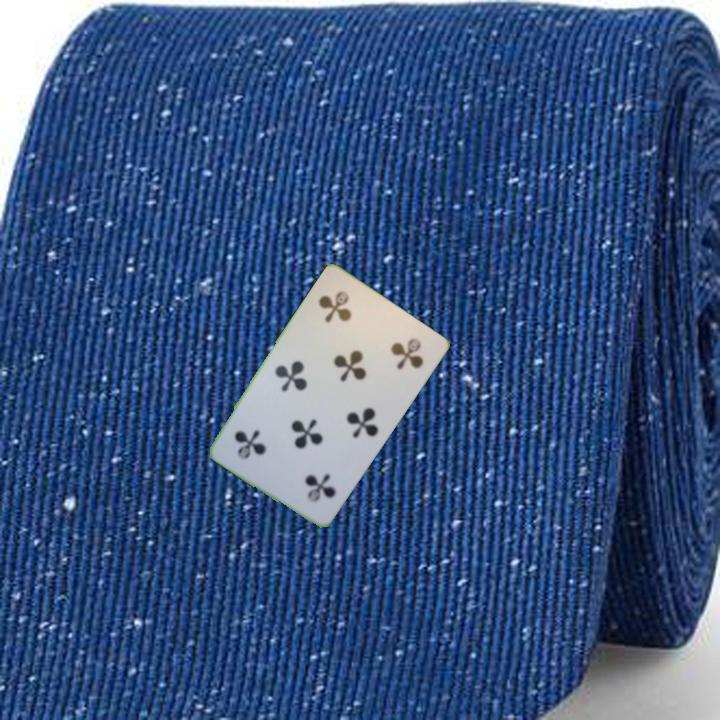c_8.png: (301, 275, 387, 358), (266, 436, 351, 519)
